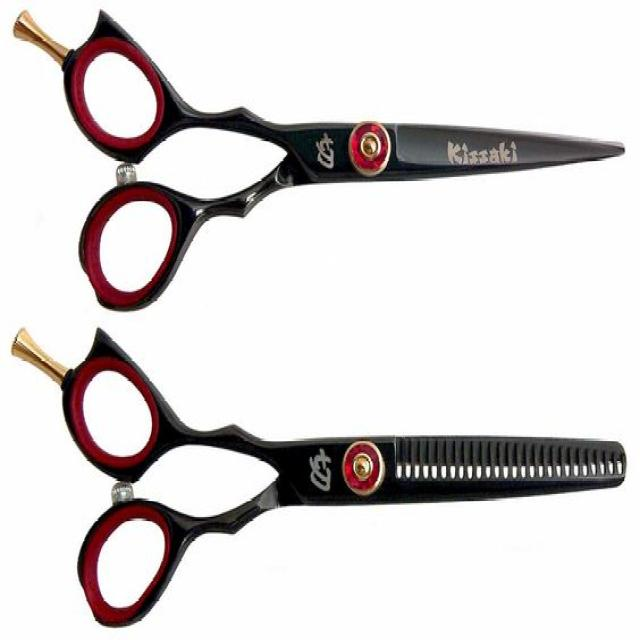scissor: (8, 0, 631, 314)
